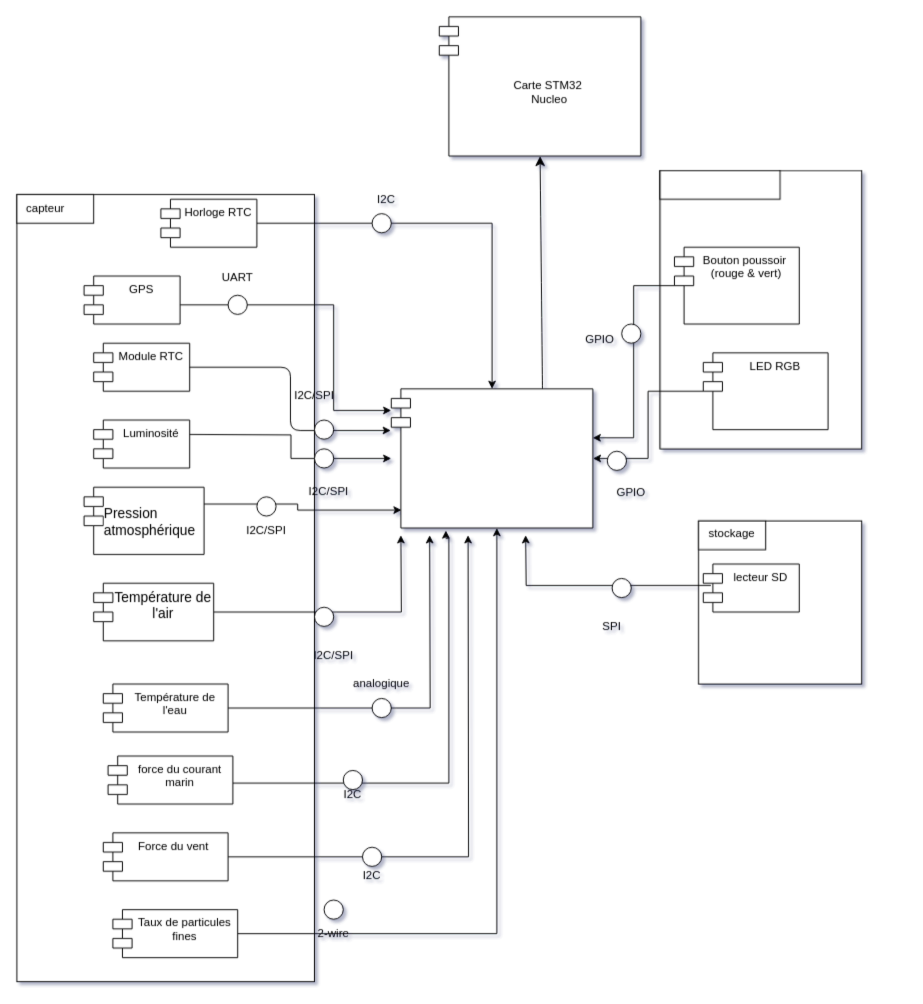
The diagram is 923 pixels wide and 1004 high, and some of its shapes have lost their labels. The box of each missing label's shape, as (x1, y1, x2, y2) in pixels:
interface utilisateur: (659, 169, 780, 199)
Shield: (390, 388, 593, 528)
